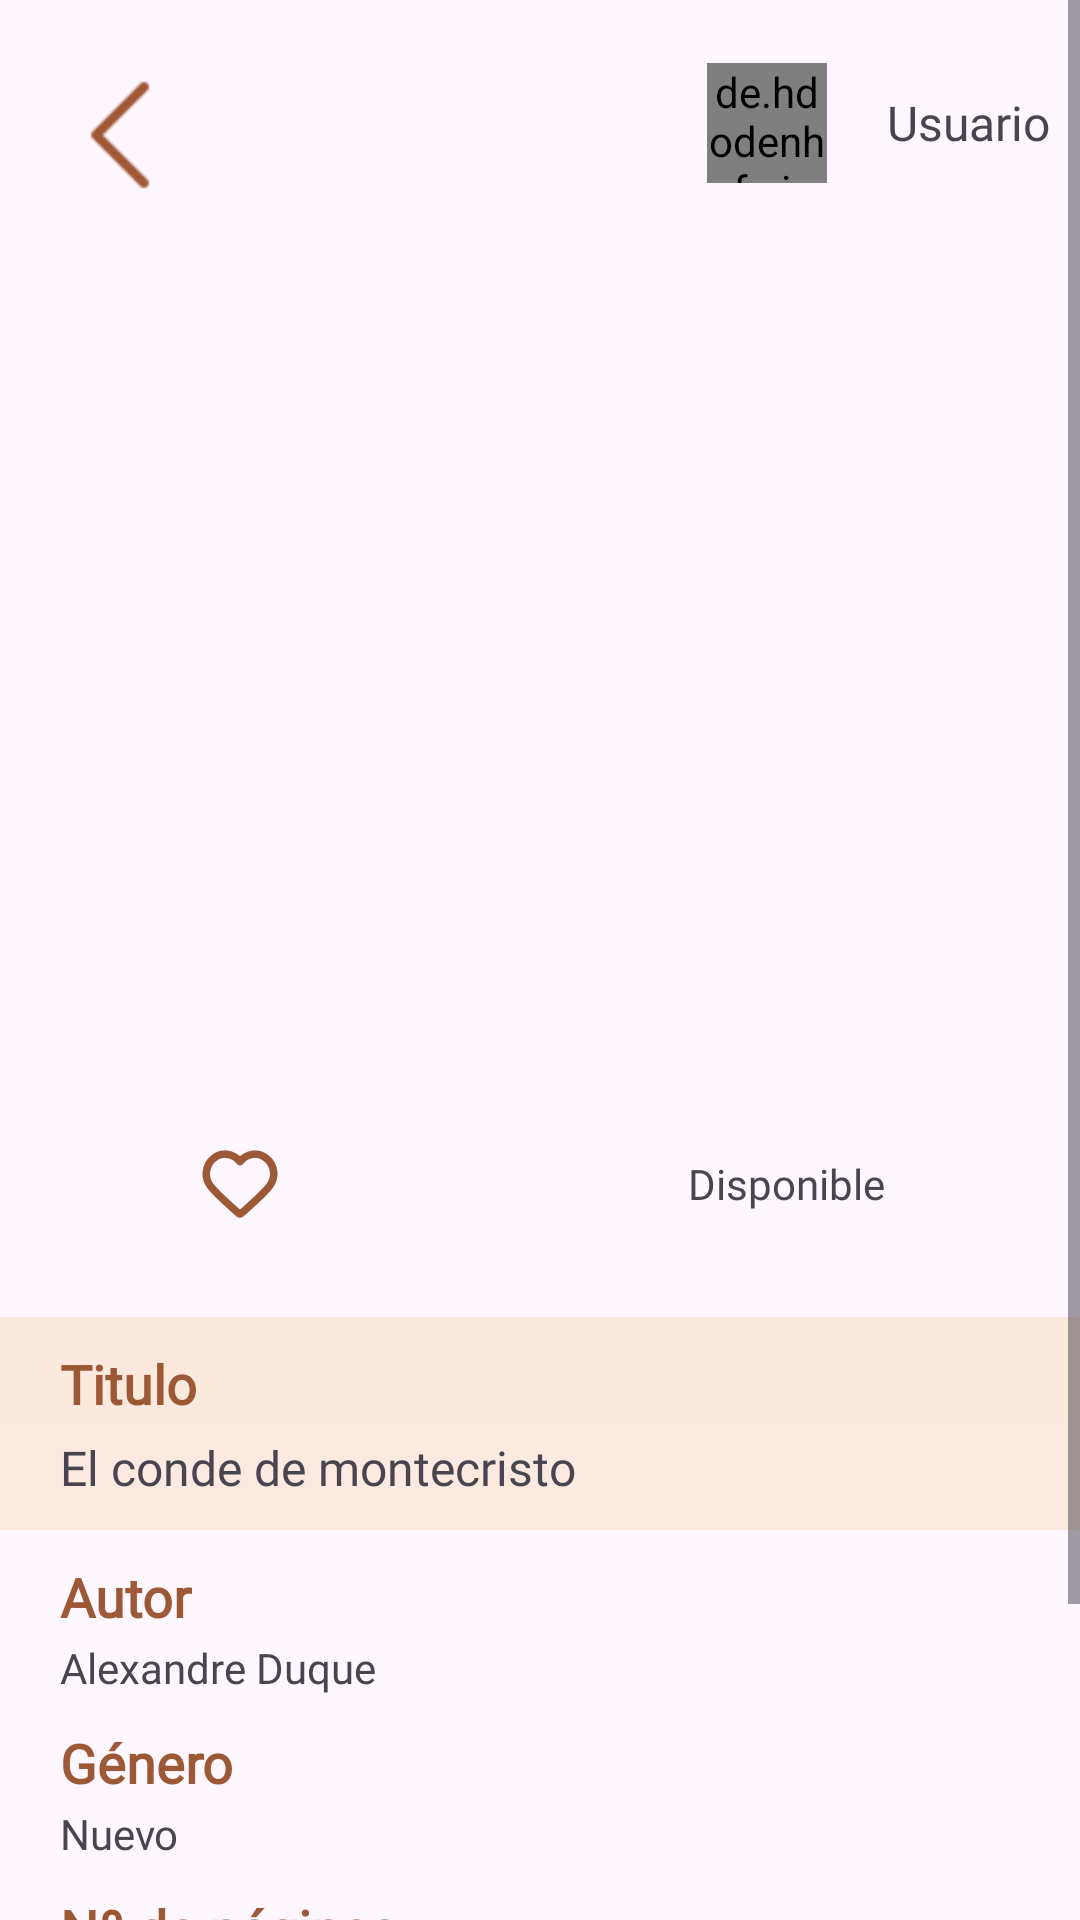

Where to tap for icons on this 1080w x 1920h app screen, as (x,y):
backk: (120,135)
vacio: (240,1184)
